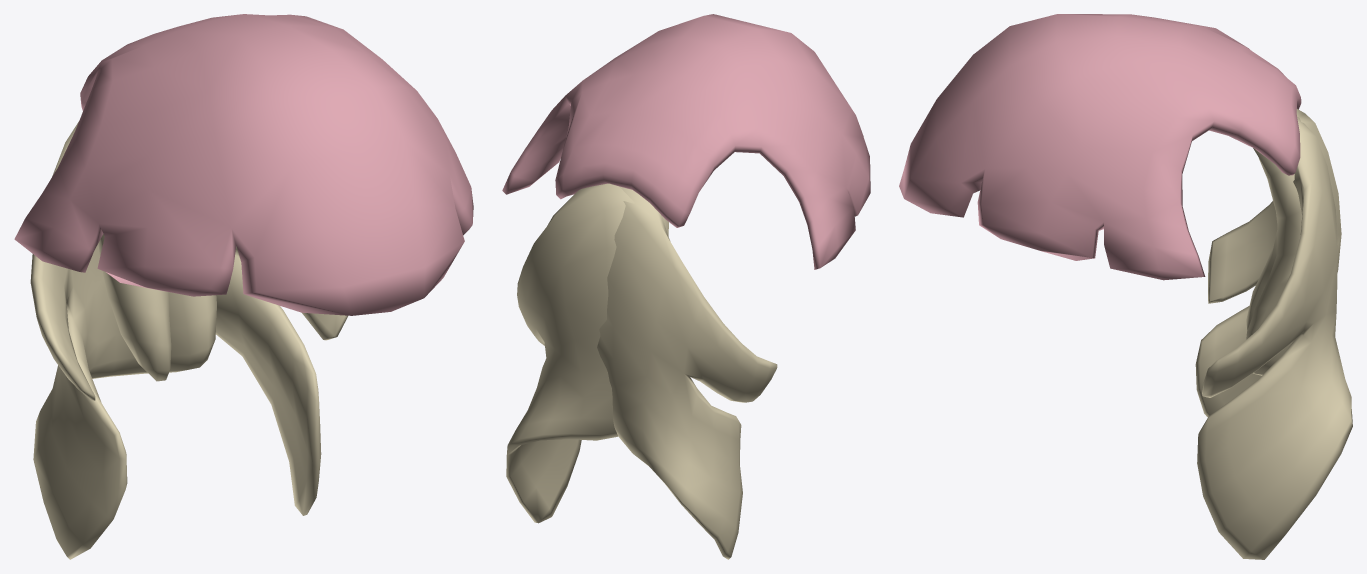
The model's file is Mane_17.fbx.
3 renders of one model, left to right at view 1: azimuth 30°, elevation 25°; view 2: azimuth 150°, elevation 25°; view 3: azimuth 270°, elevation 25°, orthographic. The views are drawn at different scales.
Visible parts, largest first — view 1: Mane_17; view 2: Mane_17; view 3: Mane_17.
Boxes of the visible parts, box(x1,y1,x2,y2) form: Mane_17: box(14, 14, 473, 559); Mane_17: box(502, 14, 870, 559); Mane_17: box(899, 14, 1352, 559).
Size of the model in its own units: 162 by 222 by 189.
